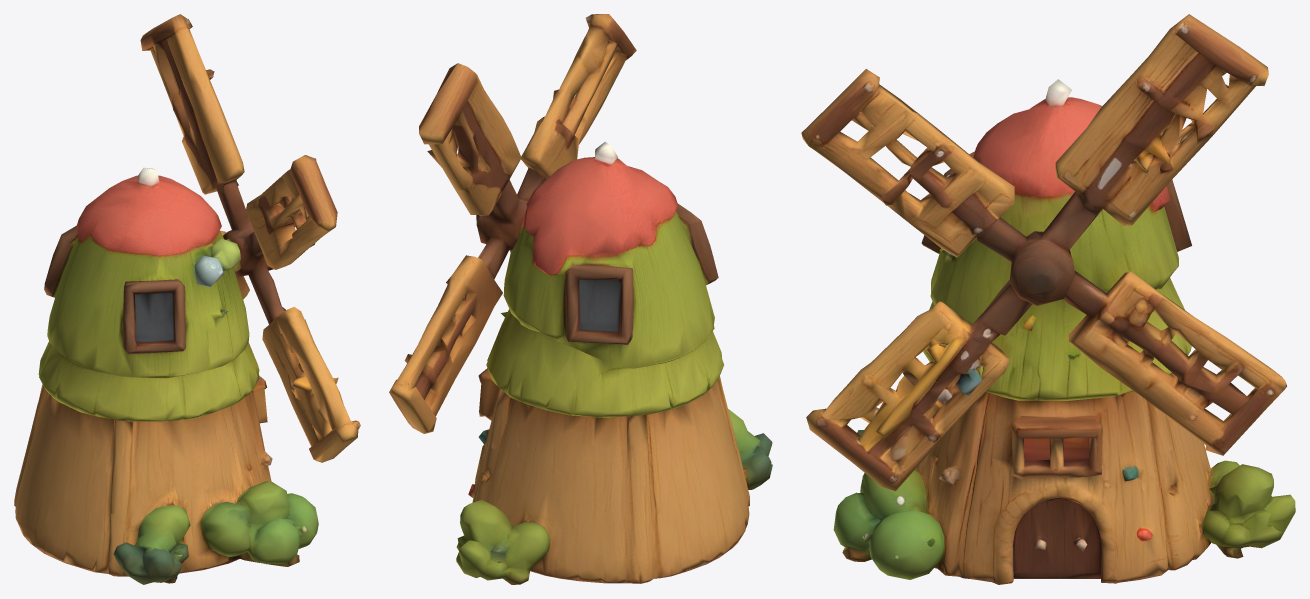
File: windmill.glb
3 renders of one model, left to right at view 1: azimuth 30°, elevation 25°; view 2: azimuth 150°, elevation 25°; view 3: azimuth 270°, elevation 25°, orthographic. The views are drawn at different scales.
Visible parts, largest first — view 1: tripo_node_0ca30e12-c22c-4af9-b214-8259b0f763dc; view 2: tripo_node_0ca30e12-c22c-4af9-b214-8259b0f763dc; view 3: tripo_node_0ca30e12-c22c-4af9-b214-8259b0f763dc.
Part boxes in pixels (x1,y1,x2,y2): tripo_node_0ca30e12-c22c-4af9-b214-8259b0f763dc: (14, 14, 360, 584); tripo_node_0ca30e12-c22c-4af9-b214-8259b0f763dc: (389, 14, 772, 584); tripo_node_0ca30e12-c22c-4af9-b214-8259b0f763dc: (801, 14, 1295, 584).
Bounding box in the file's own units: 0.559 × 1 × 0.8016.
Materials: 1 (1 with a texture image).
